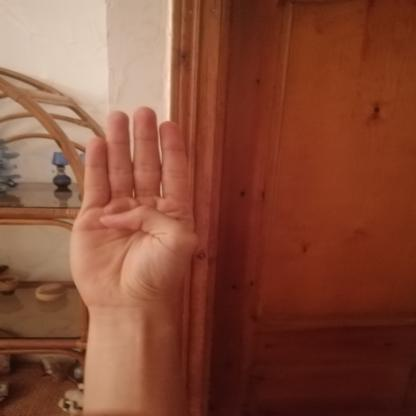KAAF: (48, 94, 215, 326)
